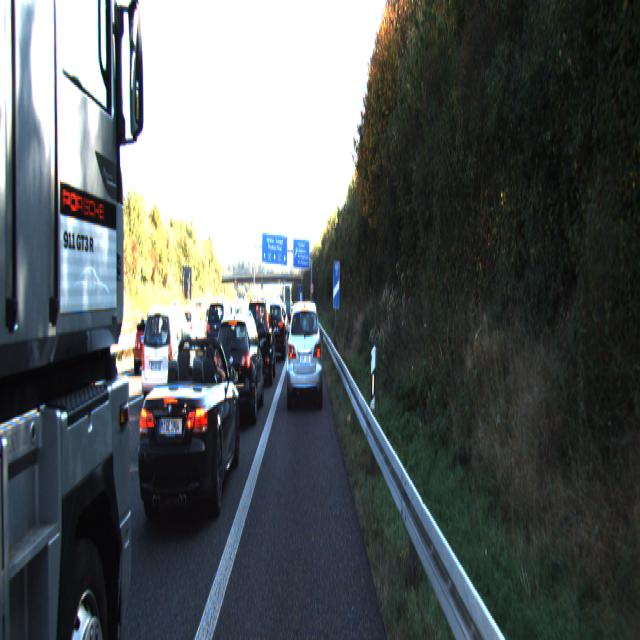Car: (133, 334, 243, 543), (210, 310, 264, 432), (140, 304, 197, 408), (286, 296, 322, 409), (242, 296, 277, 388), (205, 299, 235, 367), (135, 0, 138, 639), (264, 298, 286, 362)
